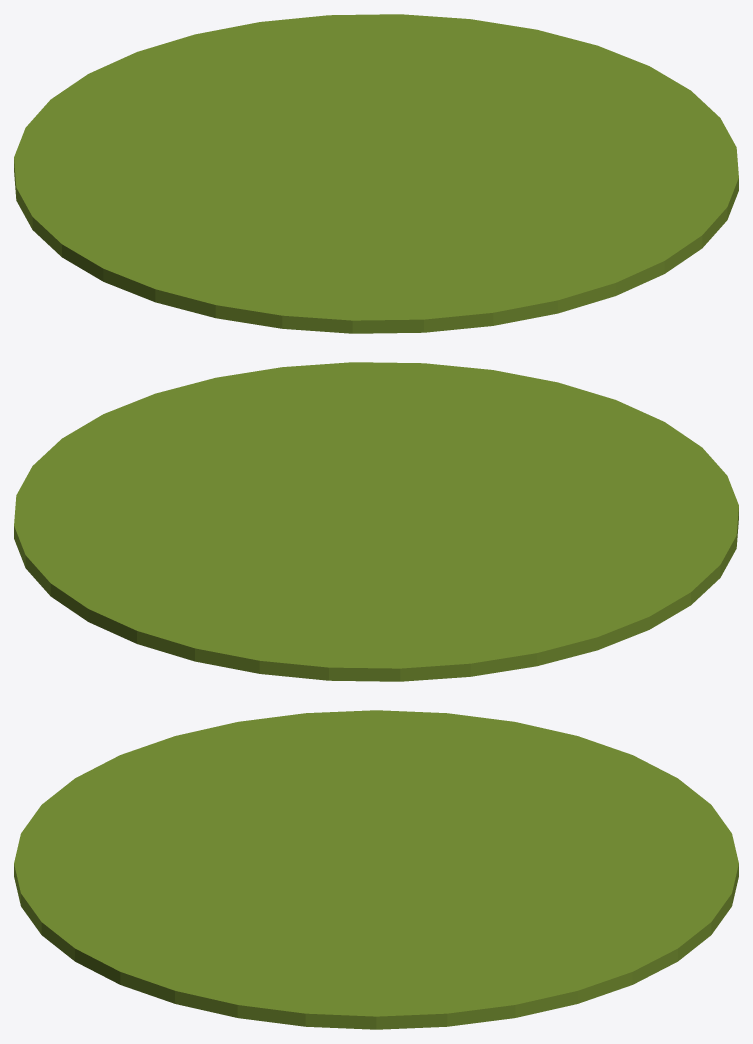
File: forestFullCircle.glb
3 renders of one model, top to bottom at view 1: azimuth 30°, elevation 25°; view 2: azimuth 150°, elevation 25°; view 3: azimuth 270°, elevation 25°, orthographic.
Parts seen in each view (by area): view 1: Cylinder; view 2: Cylinder; view 3: Cylinder.
Part boxes in pixels (<box>): Cylinder: <box>14,14,738,333</box>; Cylinder: <box>14,362,738,681</box>; Cylinder: <box>14,710,738,1029</box>.
Bounding box in the file's own units: 200 × 4 × 200.
